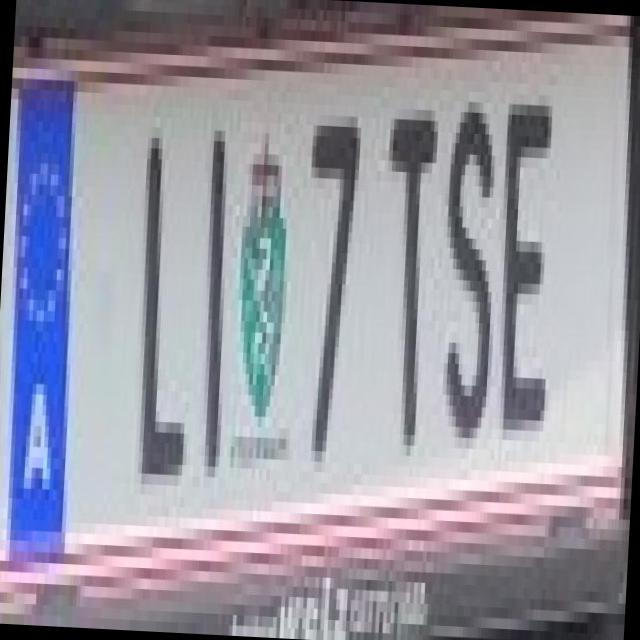E: (478, 72, 570, 432)
L: (112, 95, 231, 488)
S: (422, 69, 507, 439)
T: (286, 72, 412, 456), (359, 66, 445, 447)
